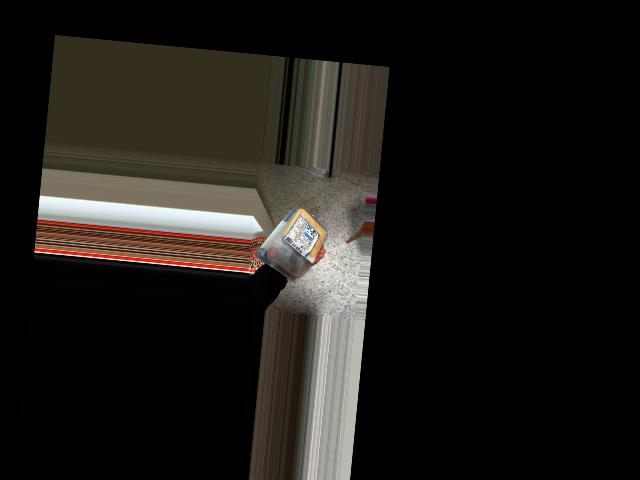cheese: (263, 206, 328, 277)
